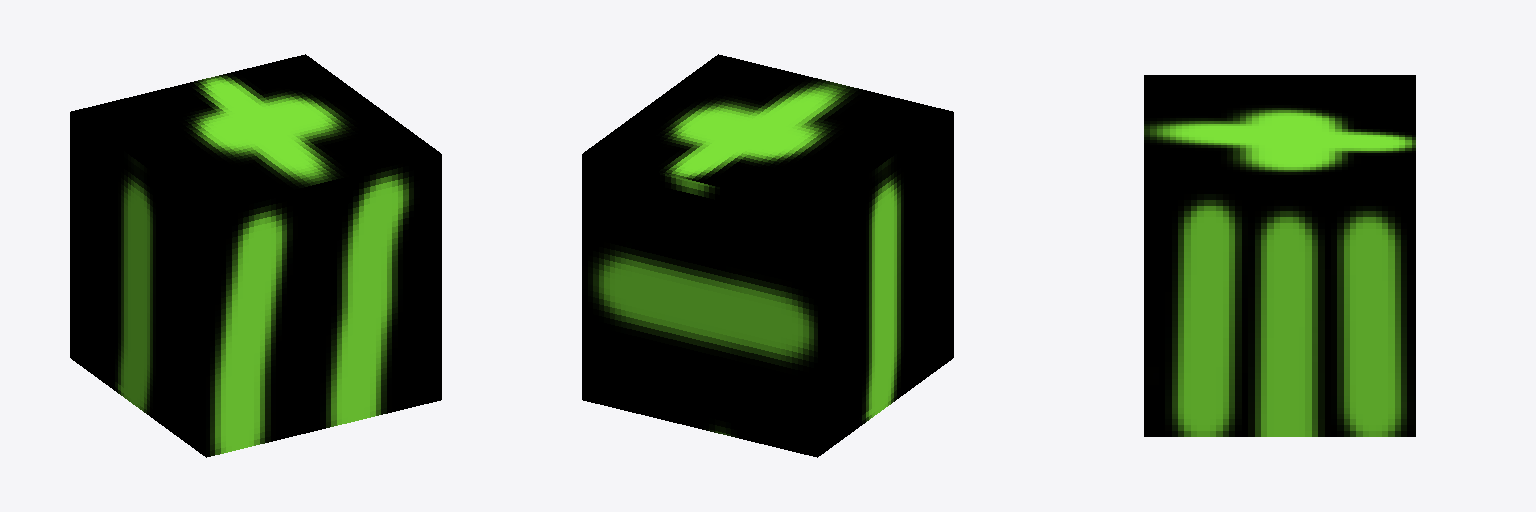
3 views of the same model, side by side, from view 1: azimuth 30°, elevation 25°; view 2: azimuth 150°, elevation 25°; view 3: azimuth 270°, elevation 25° (orthographic).
Parts seen in each view (by area): view 1: Cube; view 2: Cube; view 3: Cube.
Boxes of the visible parts, x1=… form: Cube: x1=70, y1=54, x2=441, y2=457; Cube: x1=582, y1=54, x2=953, y2=457; Cube: x1=1144, y1=75, x2=1415, y2=436.
Size of the model in its own units: 2 by 2 by 2.
1 materials, 1 textured.